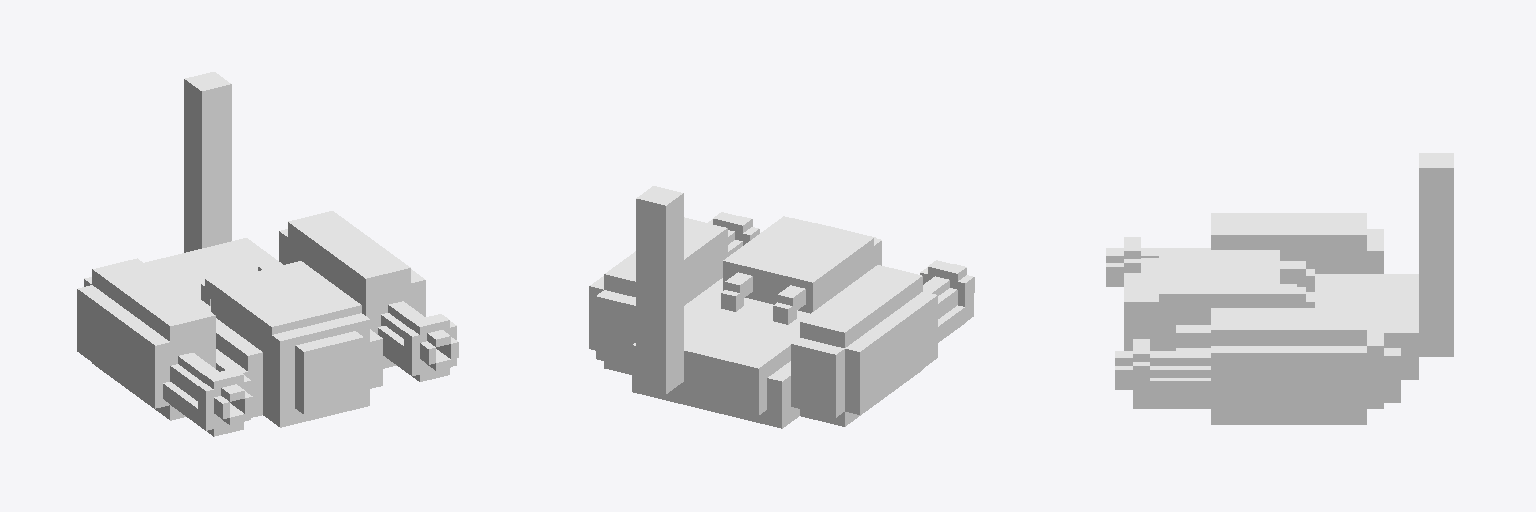
The model's file is roboto-top-1.obj.
3 views of the same model, side by side, from view 1: azimuth 30°, elevation 25°; view 2: azimuth 150°, elevation 25°; view 3: azimuth 270°, elevation 25° (orthographic).
Visible parts, largest first — view 1: object 1; view 2: object 1; view 3: object 1.
Part boxes in pixels (x1,y1,x2,y2): object 1: (77,72,458,436); object 1: (589,186,974,428); object 1: (1106,153,1453,424).
Bounding box in the file's own units: 3.6 × 2.8 × 4.